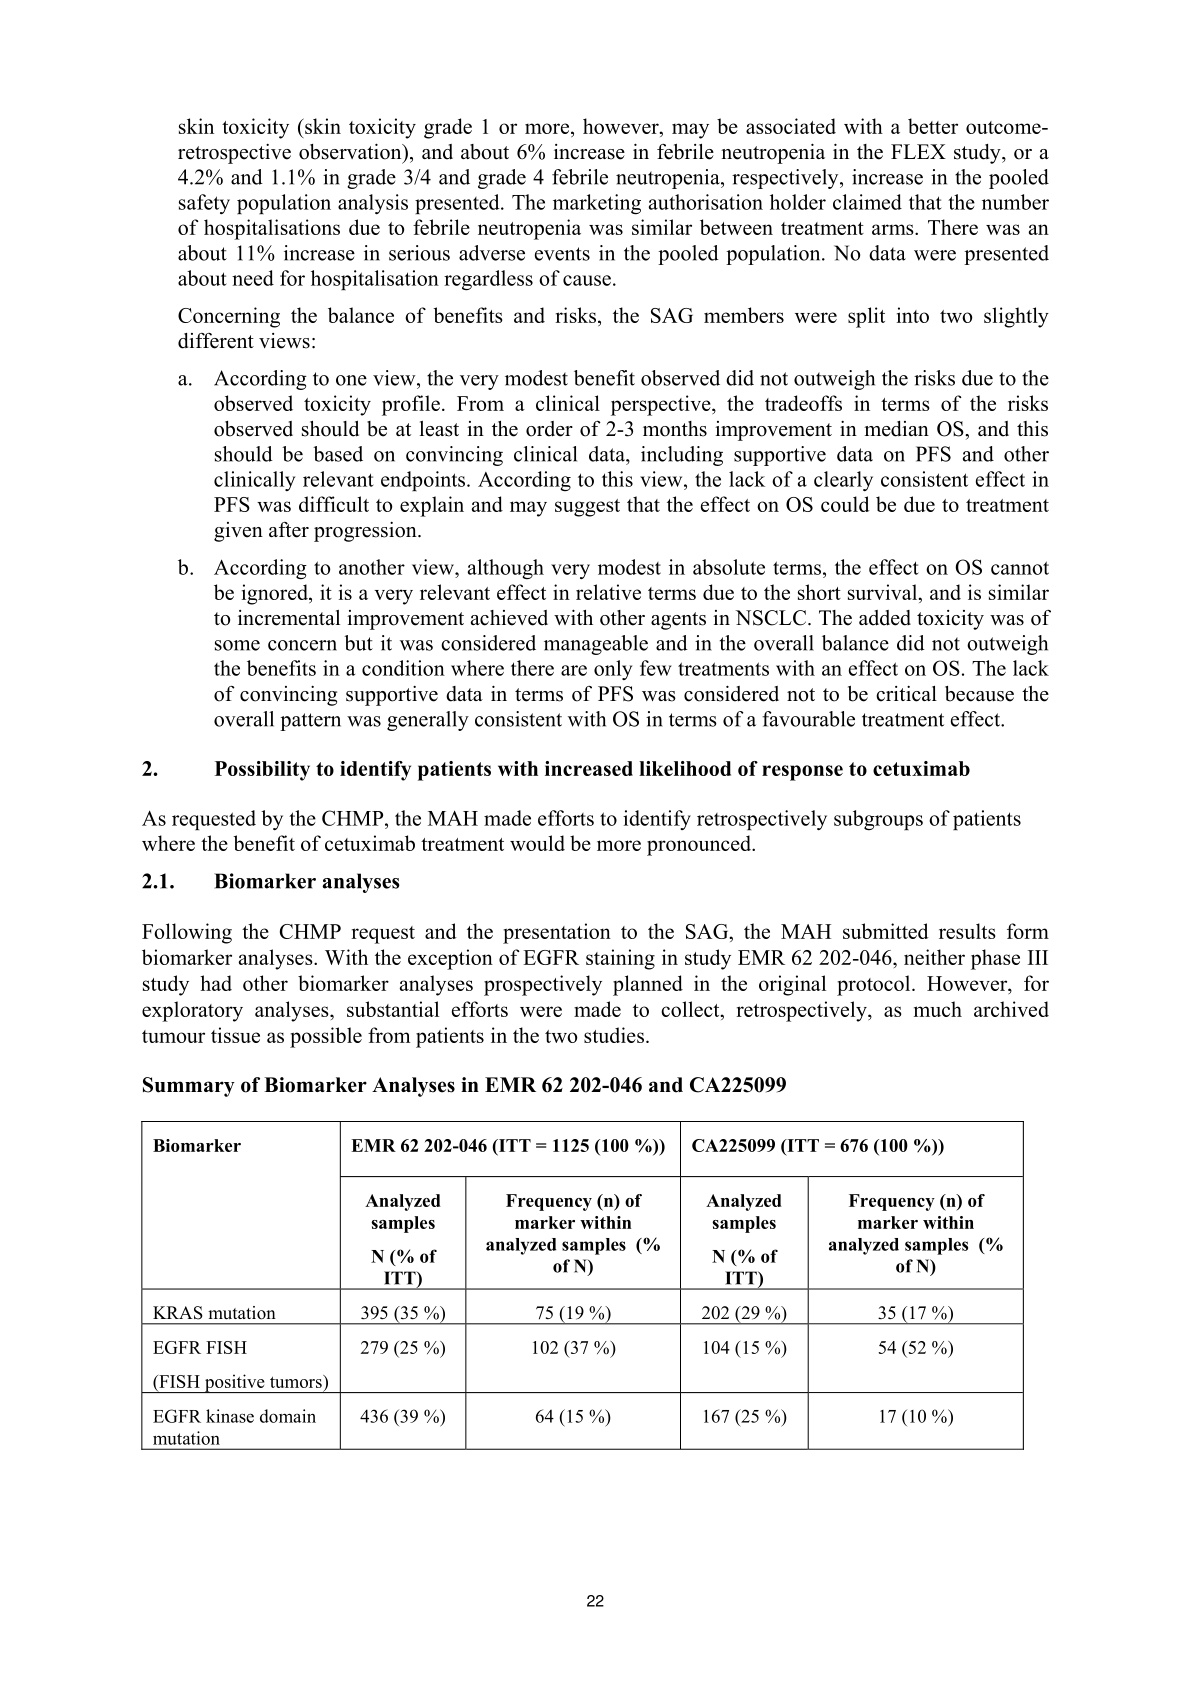merged_cells: (139, 1119, 1025, 1450)
